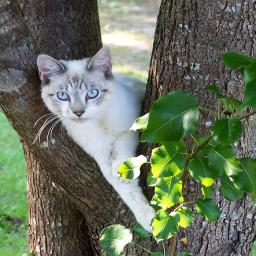catnose: (72, 108, 86, 118)
